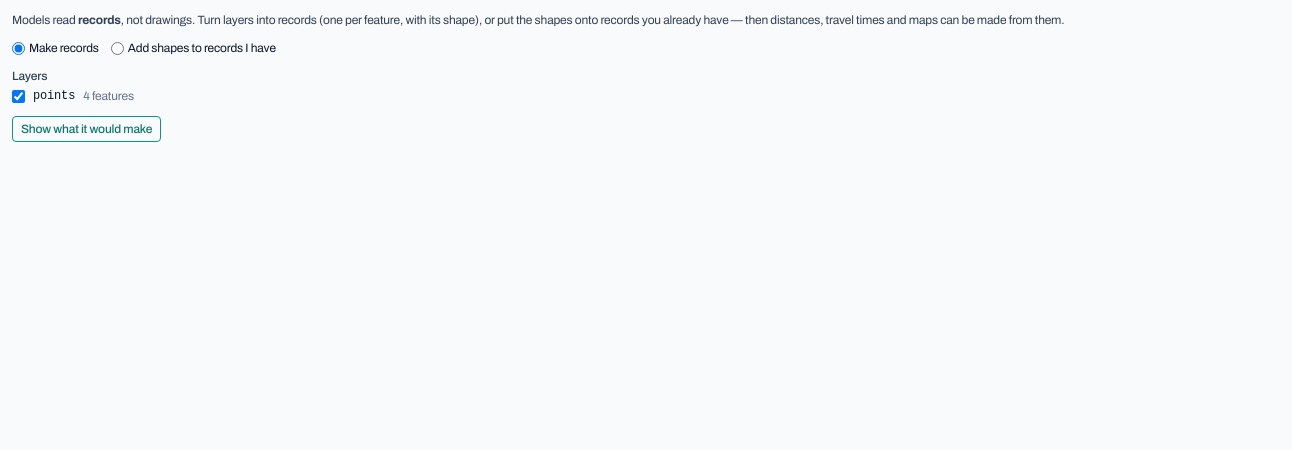
names the records by a property, and a property left as the key comes back as a field when the key changes
The width and height of the screenshot is (1292, 450).
Step 1. Click the button "Show what it would make" → [87, 129], box [12,116,161,142]
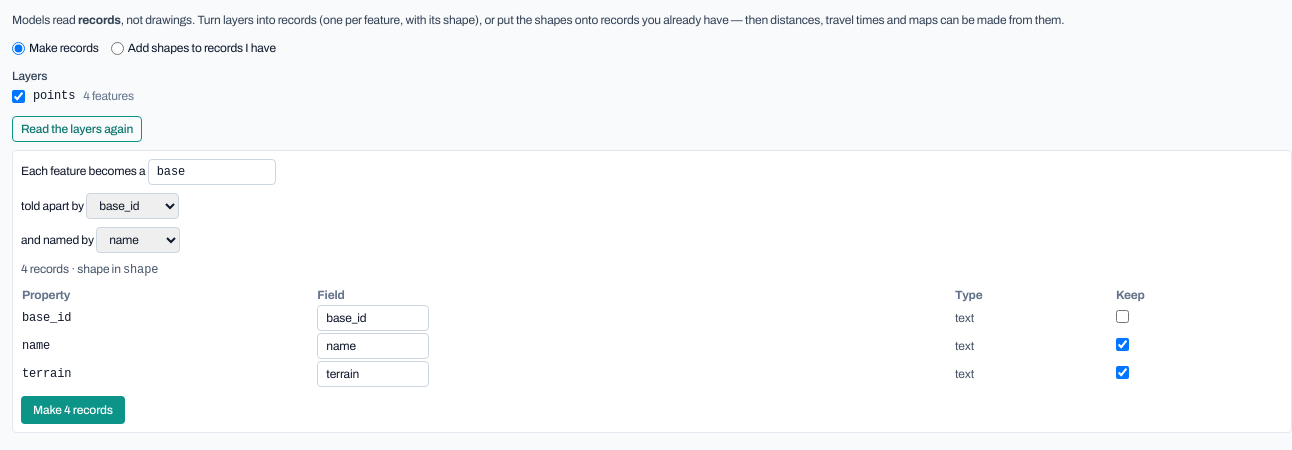
Check: the dropdown named "Name property" shows "name", box [96,227,180,253]
Step 2. Select "name" in the dropdown named "Key property" → [133, 206], box [86,193,179,219]
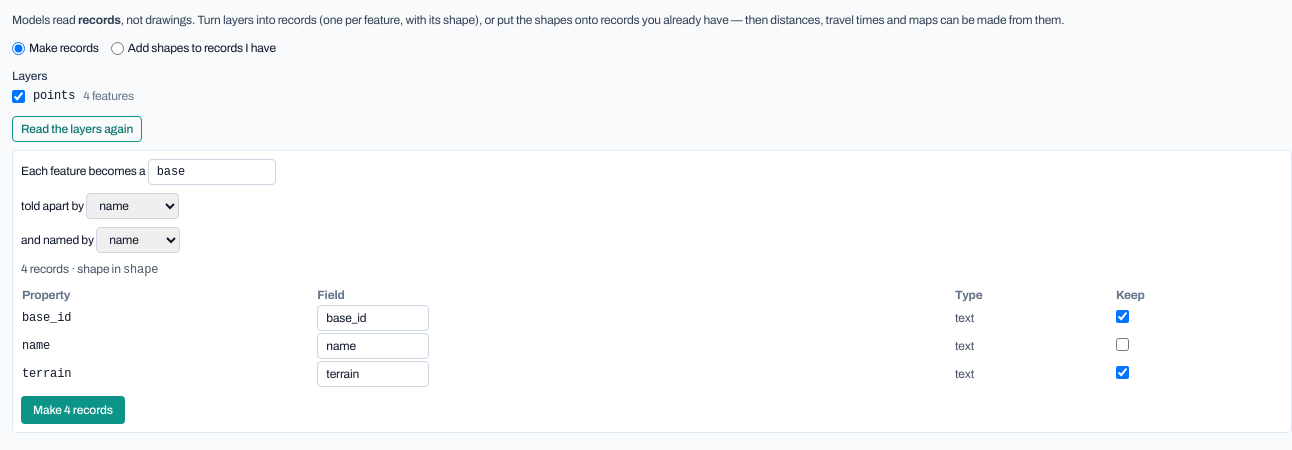
Check: the checkbox named "Keep base_id" is checked, box [1116,310,1129,322]
Check: the checkbox named "Keep name" is not checked, box [1116,338,1129,350]
